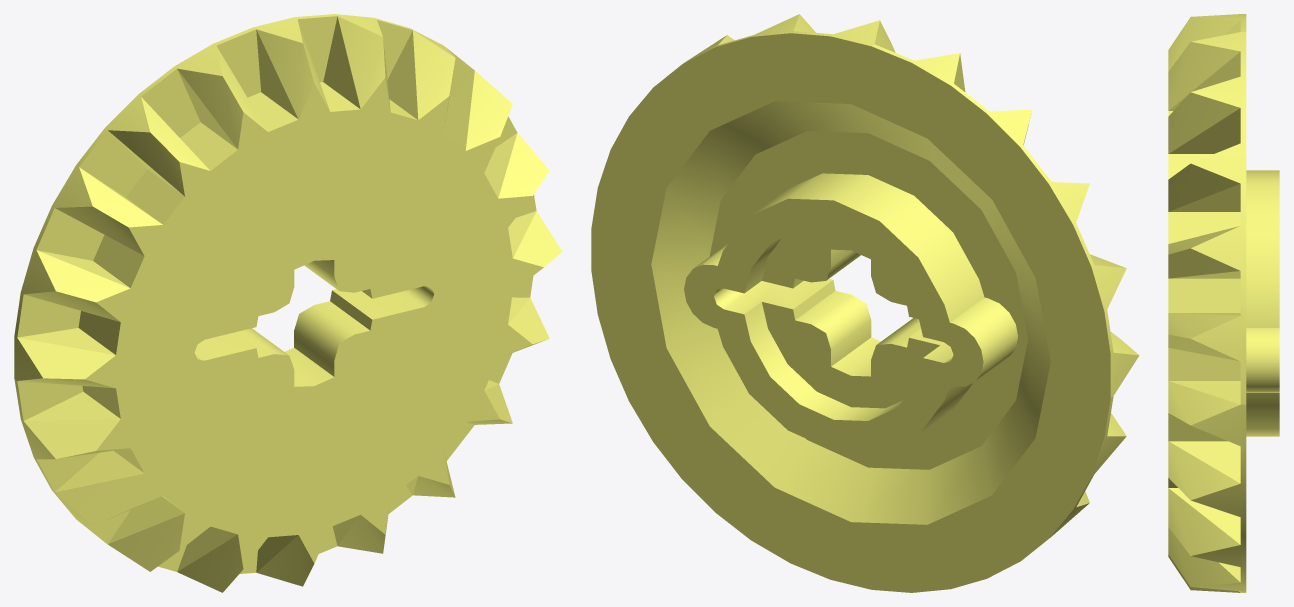
The picture shows the model from 3 angles, left to right: view 1: azimuth 30°, elevation 25°; view 2: azimuth 150°, elevation 25°; view 3: azimuth 270°, elevation 25°; orthographic projection. The views are drawn at different scales.
Parts seen in each view (by area): view 1: 32198a.dat; view 2: 32198a.dat; view 3: 32198a.dat.
Boxes of the visible parts, box(x1,y1,x2,y2) form: 32198a.dat: box(14, 14, 562, 592); 32198a.dat: box(591, 14, 1139, 592); 32198a.dat: box(1168, 14, 1279, 592).
Bounding box in the file's own units: 0.0208 × 0.0208 × 0.004.
